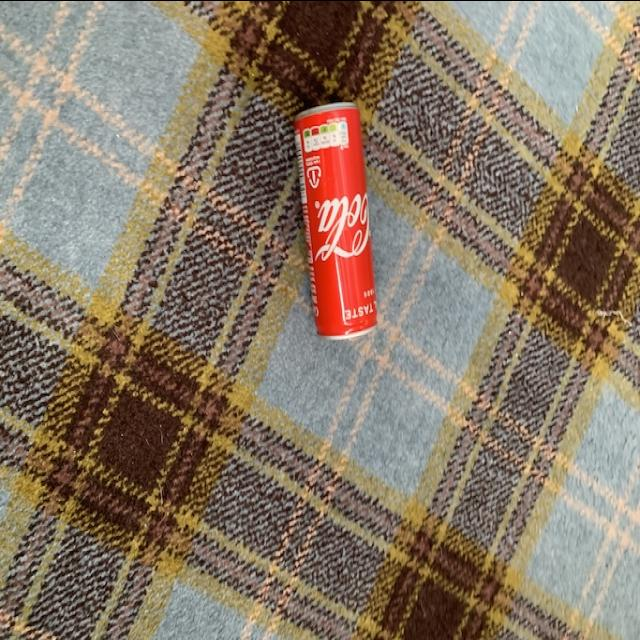Aluminum Can: (293, 95, 379, 346)
